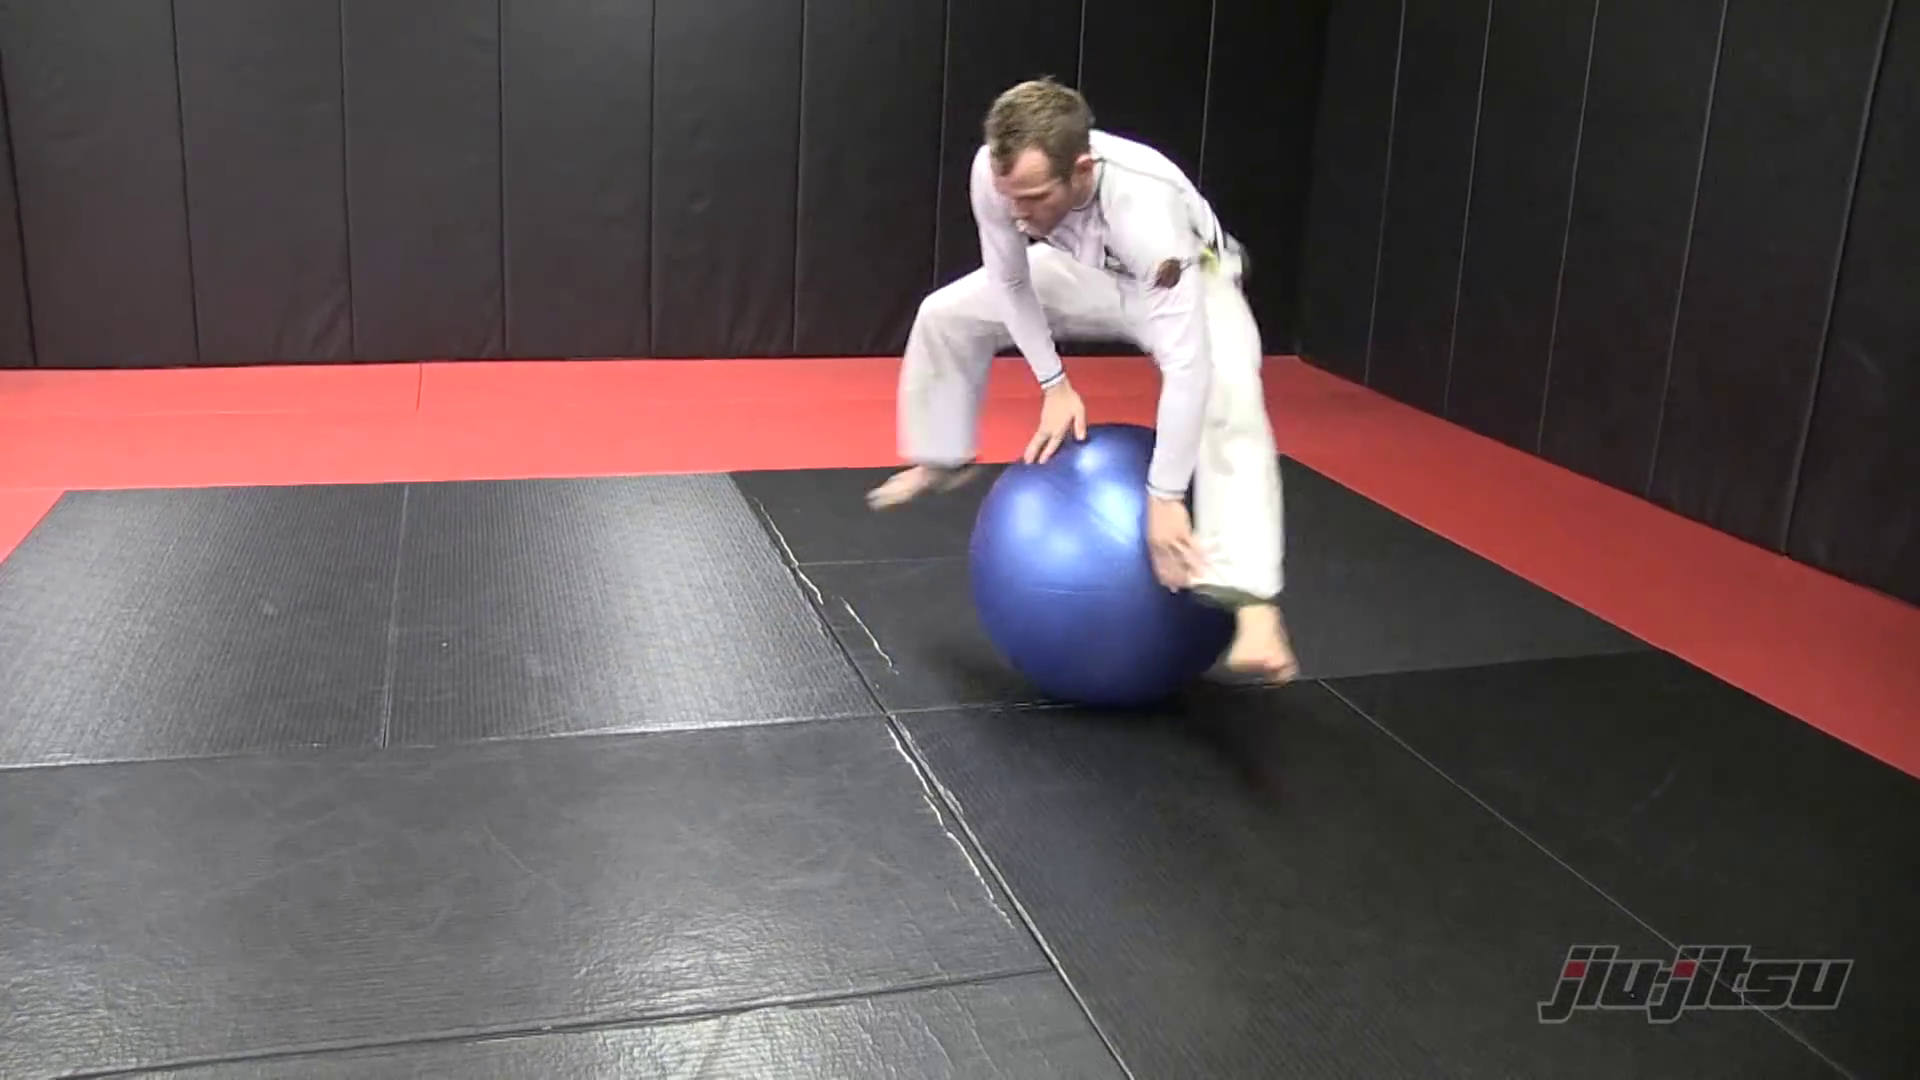yogaball: (945, 415, 1265, 724)
